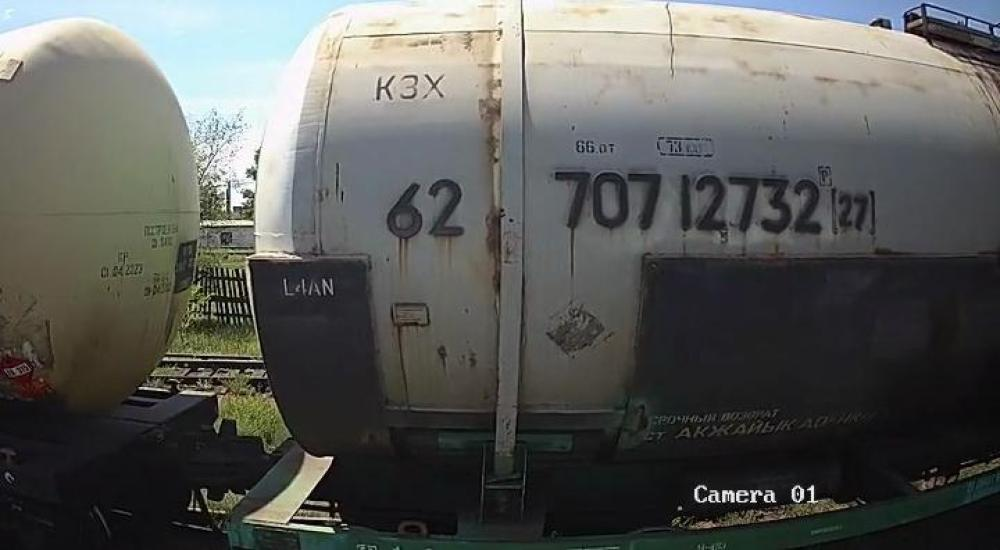Wagon-number: (551, 163, 827, 240)
